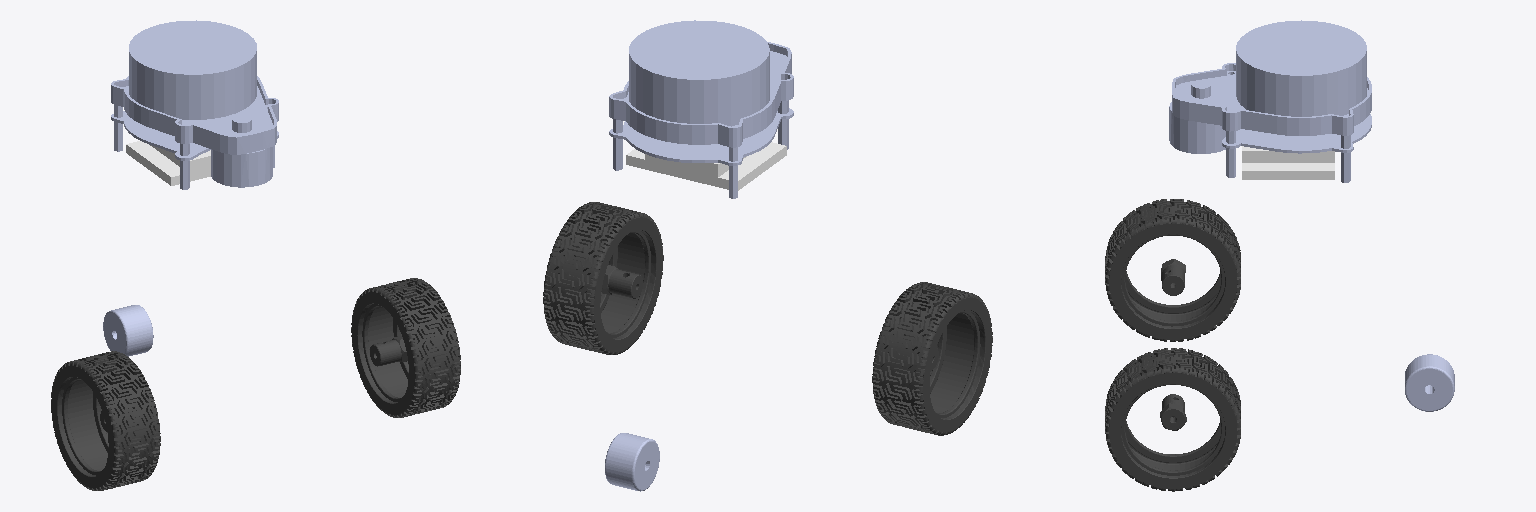
URDF robot description (Assem1):
<?xml version="1.0" encoding="utf-8"?>
<!-- This URDF was automatically created by SolidWorks to URDF Exporter! Originally created by [author] ([email redacted]) 
     Commit Version: 1.6.0-4-g7f85cfe  Build Version: 1.6.7995.38578
     For more information, please see http://wiki.ros.org/sw_urdf_exporter -->
<robot
  name="Assem1">
  <link
    name="base_link">
    <inertial>
      <origin
        xyz="0.0686960819979954 0.0906663823430862 0.128057388312242"
        rpy="0 0 0" />
      <mass
        value="0.366135832063462" />
      <inertia
        ixx="0.000335468988355107"
        ixy="-1.37556999741366E-07"
        ixz="-3.91168233468655E-07"
        iyy="0.000595094796888886"
        iyz="-7.17626466054021E-08"
        izz="0.000278806379023775" />
    </inertial>
    <visual>
      <origin
        xyz="0 0 0"
        rpy="0 0 0" />
      <geometry>
        <mesh
          filename="package://Assem1/meshes/base_link.STL" />
      </geometry>
      <material
        name="">
        <color
          rgba="0.792156862745098 0.819607843137255 0.933333333333333 1" />
      </material>
    </visual>
    <collision>
      <origin
        xyz="0 0 0"
        rpy="0 0 0" />
      <geometry>
        <mesh
          filename="package://Assem1/meshes/base_link.STL" />
      </geometry>
    </collision>
  </link>
  <link
    name="liadr_link">
    <inertial>
      <origin
        xyz="0.0267059004296605 0.0250000000000024 -0.0377011422227911"
        rpy="0 0 0" />
      <mass
        value="0.146695752131392" />
      <inertia
        ixx="6.22721120792819E-05"
        ixy="-2.39760403490095E-19"
        ixz="1.88658076337422E-05"
        iyy="0.000109673997590948"
        iyz="-4.04119502993067E-19"
        izz="0.000125682524275729" />
    </inertial>
    <visual>
      <origin
        xyz="0 0 0"
        rpy="0 0 0" />
      <geometry>
        <mesh
          filename="package://Assem1/meshes/liadr_link.STL" />
      </geometry>
      <material
        name="">
        <color
          rgba="0.792156862745098 0.819607843137255 0.933333333333333 1" />
      </material>
    </visual>
    <collision>
      <origin
        xyz="0 0 0"
        rpy="0 0 0" />
      <geometry>
        <mesh
          filename="package://Assem1/meshes/liadr_link.STL" />
      </geometry>
    </collision>
  </link>
  <joint
    name="ydlidar"
    type="fixed">
    <origin
      xyz="0.042231 -0.15118 0.16236"
      rpy="3.1416 0 1.5708" />
    <parent
      link="base_link" />
    <child
      link="liadr_link" />
    <axis
      xyz="0 0 1" />
  </joint>
  <link
    name="imu_link">
    <inertial>
      <origin
        xyz="-1.16573417585641E-15 -1.67921232474555E-15 -0.00525465003429967"
        rpy="0 0 0" />
      <mass
        value="0.0259119734073464" />
      <inertia
        ixx="4.88469120518662E-06"
        ixy="-5.77187056134516E-22"
        ixz="7.74475741301589E-21"
        iyy="5.92754134098662E-06"
        iyz="-1.07880896915291E-21"
        izz="1.0222025489862E-05" />
    </inertial>
    <visual>
      <origin
        xyz="0 0 0"
        rpy="0 0 0" />
      <geometry>
        <mesh
          filename="package://Assem1/meshes/imu_link.STL" />
      </geometry>
      <material
        name="">
        <color
          rgba="1 1 1 1" />
      </material>
    </visual>
    <collision>
      <origin
        xyz="0 0 0"
        rpy="0 0 0" />
      <geometry>
        <mesh
          filename="package://Assem1/meshes/imu_link.STL" />
      </geometry>
    </collision>
  </link>
  <joint
    name="imu_joint"
    type="fixed">
    <origin
      xyz="0.067231 -0.12268 0.16236"
      rpy="3.1416 0 -3.1416" />
    <parent
      link="base_link" />
    <child
      link="imu_link" />
    <axis
      xyz="0 0 1" />
  </joint>
  <link
    name="right_wheel">
    <inertial>
      <origin
        xyz="0.0175974886707705 4.34781335933998E-10 1.2462056941942E-09"
        rpy="0 0 0" />
      <mass
        value="0.0236172986040457" />
      <inertia
        ixx="2.01293821963848E-05"
        ixy="-3.20838844082092E-14"
        ixz="1.1181926193534E-13"
        iyy="1.18496952116128E-05"
        iyz="-4.65783459380596E-10"
        izz="1.18493501822185E-05" />
    </inertial>
    <visual>
      <origin
        xyz="0 0 0"
        rpy="0 0 0" />
      <geometry>
        <mesh
          filename="package://Assem1/meshes/right_wheel.STL" />
      </geometry>
      <material
        name="">
        <color
          rgba="0.333333333333333 0.333333333333333 0.333333333333333 1" />
      </material>
    </visual>
    <collision>
      <origin
        xyz="0 0 0"
        rpy="0 0 0" />
      <geometry>
        <mesh
          filename="package://Assem1/meshes/right_wheel.STL" />
      </geometry>
    </collision>
  </link>
  <joint
    name="right_joint"
    type="continuous">
    <origin
      xyz="0.13736 -0.18018 0.057855"
      rpy="1.944 0 0" />
    <parent
      link="base_link" />
    <child
      link="right_wheel" />
    <axis
      xyz="1 0 0" />
  </joint>
  <link
    name="left_wheel">
    <inertial>
      <origin
        xyz="0.017597488518994 4.06901727589837E-10 1.01868818935813E-09"
        rpy="0 0 0" />
      <mass
        value="0.0236172977847739" />
      <inertia
        ixx="2.0129381628138E-05"
        ixy="-2.94867891164861E-14"
        ixz="1.33213461826757E-13"
        iyy="1.18496951518561E-05"
        iyz="-4.65842569565079E-10"
        izz="1.18493496501115E-05" />
    </inertial>
    <visual>
      <origin
        xyz="0 0 0"
        rpy="0 0 0" />
      <geometry>
        <mesh
          filename="package://Assem1/meshes/left_wheel.STL" />
      </geometry>
      <material
        name="">
        <color
          rgba="0.333333333333333 0.333333333333333 0.333333333333333 1" />
      </material>
    </visual>
    <collision>
      <origin
        xyz="0 0 0"
        rpy="0 0 0" />
      <geometry>
        <mesh
          filename="package://Assem1/meshes/left_wheel.STL" />
      </geometry>
    </collision>
  </link>
  <joint
    name="left_joint"
    type="continuous">
    <origin
      xyz="-0.0027026 -0.18018 0.057855"
      rpy="1.7016 0 -3.1416" />
    <parent
      link="base_link" />
    <child
      link="left_wheel" />
    <axis
      xyz="1 0 0" />
  </joint>
  <link
    name="caster_link">
    <inertial>
      <origin
        xyz="-9.36750677027476E-17 -0.008 2.08166817117217E-16"
        rpy="0 0 0" />
      <mass
        value="0.00750671516206051" />
      <inertia
        ixx="4.62655708309704E-07"
        ixy="2.93257616962947E-24"
        ixz="0"
        iyy="6.07617317877851E-07"
        iyz="7.0379463032345E-24"
        izz="4.62655708309704E-07" />
    </inertial>
    <visual>
      <origin
        xyz="0 0 0"
        rpy="0 0 0" />
      <geometry>
        <mesh
          filename="package://Assem1/meshes/caster_link.STL" />
      </geometry>
      <material
        name="">
        <color
          rgba="0.792156862745098 0.819607843137255 0.933333333333333 1" />
      </material>
    </visual>
    <collision>
      <origin
        xyz="0 0 0"
        rpy="0 0 0" />
      <geometry>
        <mesh
          filename="package://Assem1/meshes/caster_link.STL" />
      </geometry>
    </collision>
  </link>
  <joint
    name="caster_joint"
    type="continuous">
    <origin
      xyz="0.058231 -0.052185 0.036355"
      rpy="3.1416 1.3388 -1.5708" />
    <parent
      link="base_link" />
    <child
      link="caster_link" />
    <axis
      xyz="0 1 0" />
  </joint>
</robot>

--- What the picture shows (computed from the rendered views, not written in the file) ---
Views: 3 orthographic renders of the robot side by side, from view 1: azimuth 30°, elevation 25°; view 2: azimuth 150°, elevation 25°; view 3: azimuth 270°, elevation 25°.
Model Assem1 with 6 links and 5 joints (3 continuous, 2 fixed), rooted at base_link, posed every joint at zero.
Links seen in each view (by area): view 1: liadr_link, left_wheel, right_wheel, caster_link, imu_link; view 2: liadr_link, left_wheel, right_wheel, imu_link, caster_link; view 3: liadr_link, right_wheel, left_wheel, imu_link, caster_link.
Boxes of the visible links, <box> form: liadr_link: <box>111,20,278,189</box>; left_wheel: <box>51,351,160,490</box>; right_wheel: <box>351,278,460,417</box>; caster_link: <box>103,305,153,356</box>; imu_link: <box>126,141,210,185</box>; liadr_link: <box>609,20,793,198</box>; left_wheel: <box>872,282,992,435</box>; right_wheel: <box>543,202,663,354</box>; imu_link: <box>626,142,786,190</box>; caster_link: <box>605,433,659,491</box>; liadr_link: <box>1169,20,1371,182</box>; right_wheel: <box>1105,348,1240,491</box>; left_wheel: <box>1105,199,1240,341</box>; imu_link: <box>1242,146,1334,179</box>; caster_link: <box>1405,354,1454,411</box>.
Bounding box of the posed robot: 0.2036 × 0.1745 × 0.1975 m (x, y, z).
Meshes: 6 distinct files referenced, 5 mesh visuals loaded (5 binary STL); not drawn: 1 (reference not matched to a file when rendering).
